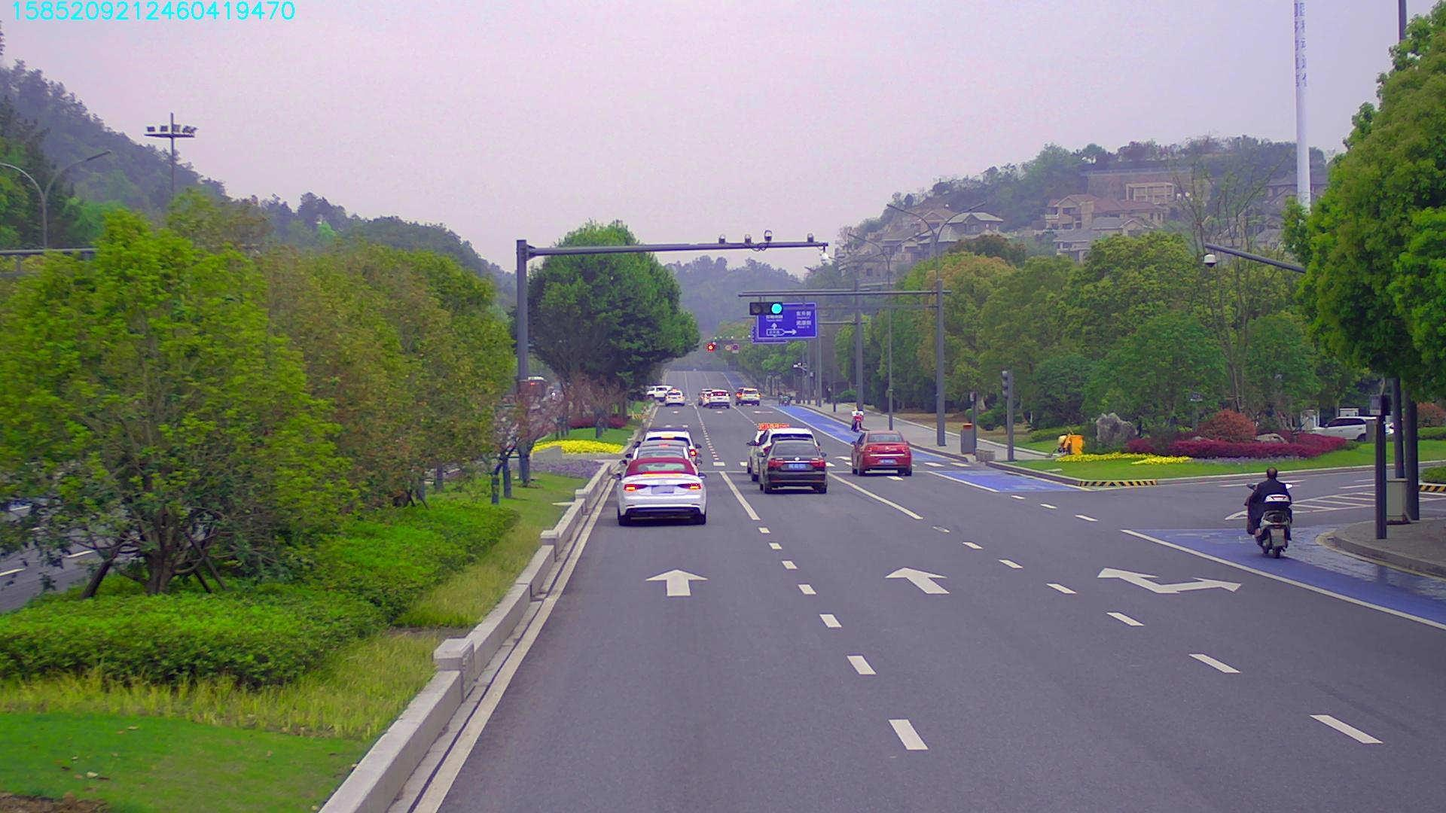red: (749, 299, 790, 312)
